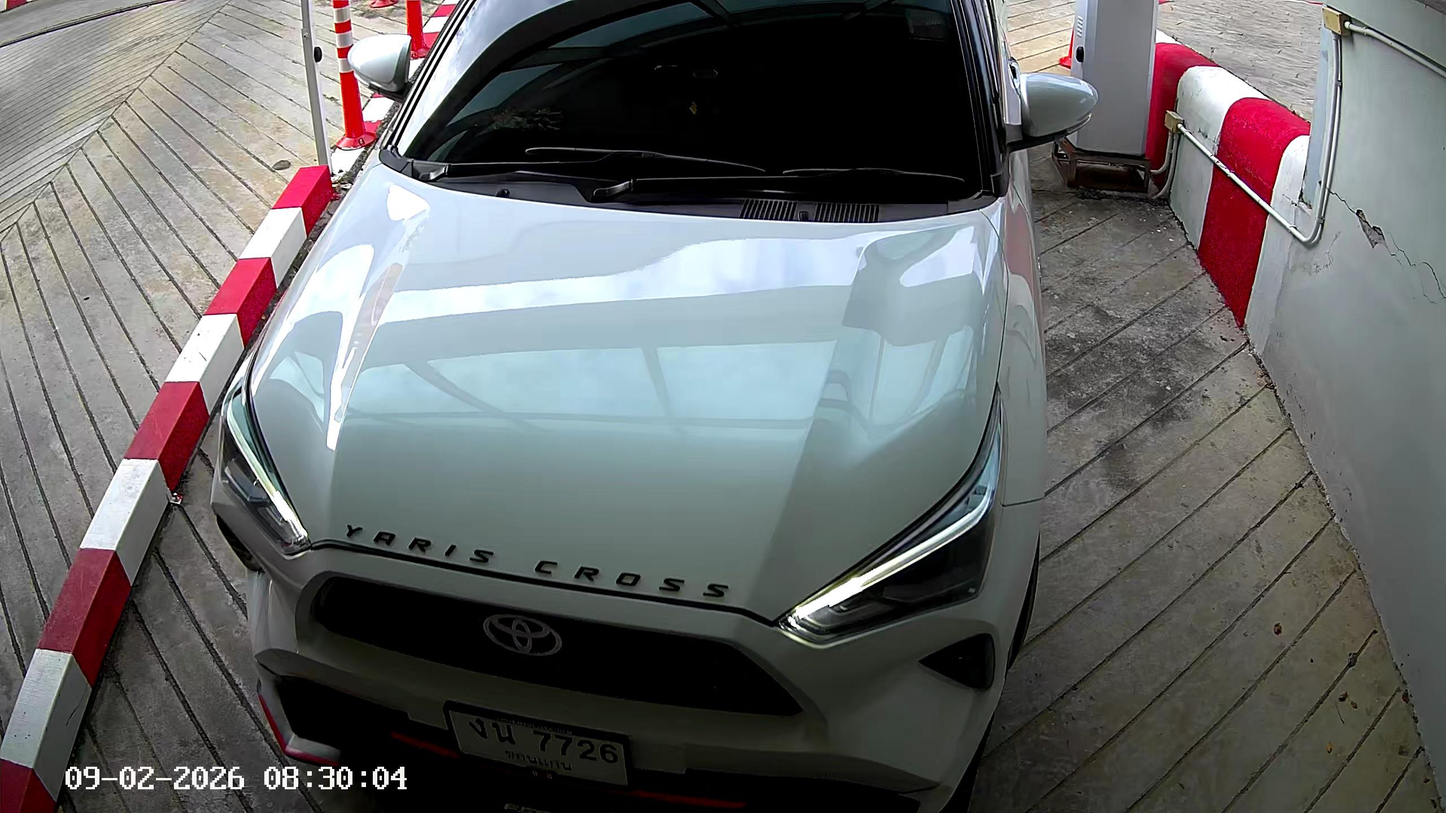car: (207, 1, 1095, 813)
license-plate: (440, 695, 632, 789)
